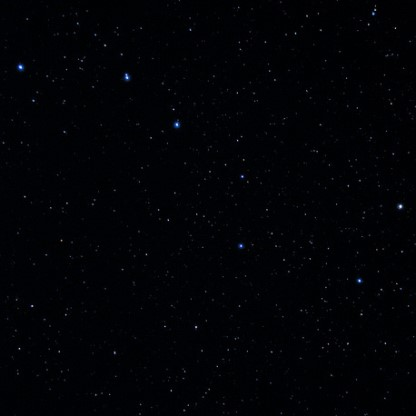Ursa Major: (11, 47, 37, 87), (350, 267, 375, 298), (117, 63, 141, 91), (232, 164, 255, 193), (390, 192, 413, 217), (232, 236, 254, 261), (167, 114, 185, 139)
